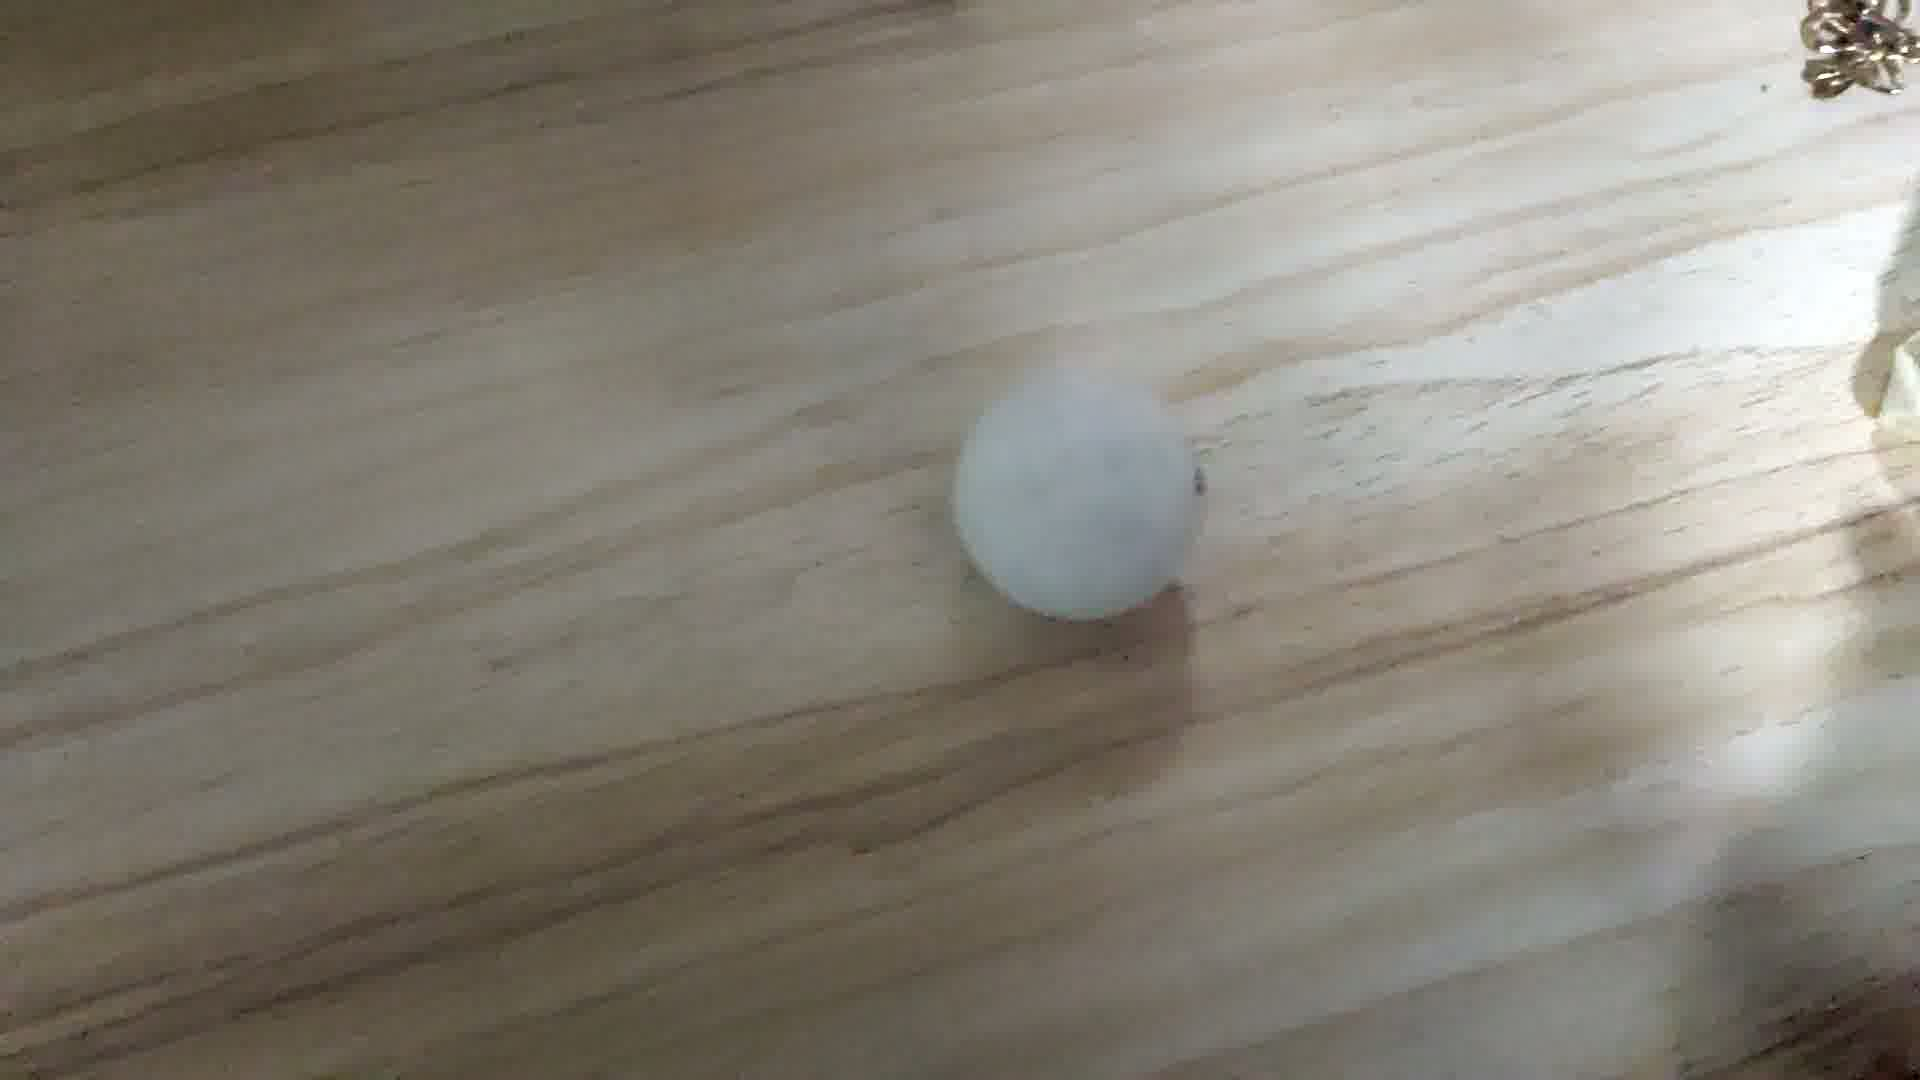Ball: (945, 371, 1220, 621)
